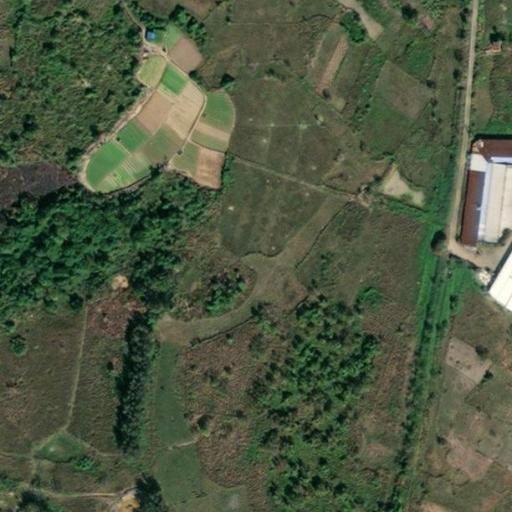building: (452, 140, 512, 253), (480, 234, 512, 310), (135, 29, 157, 44)
